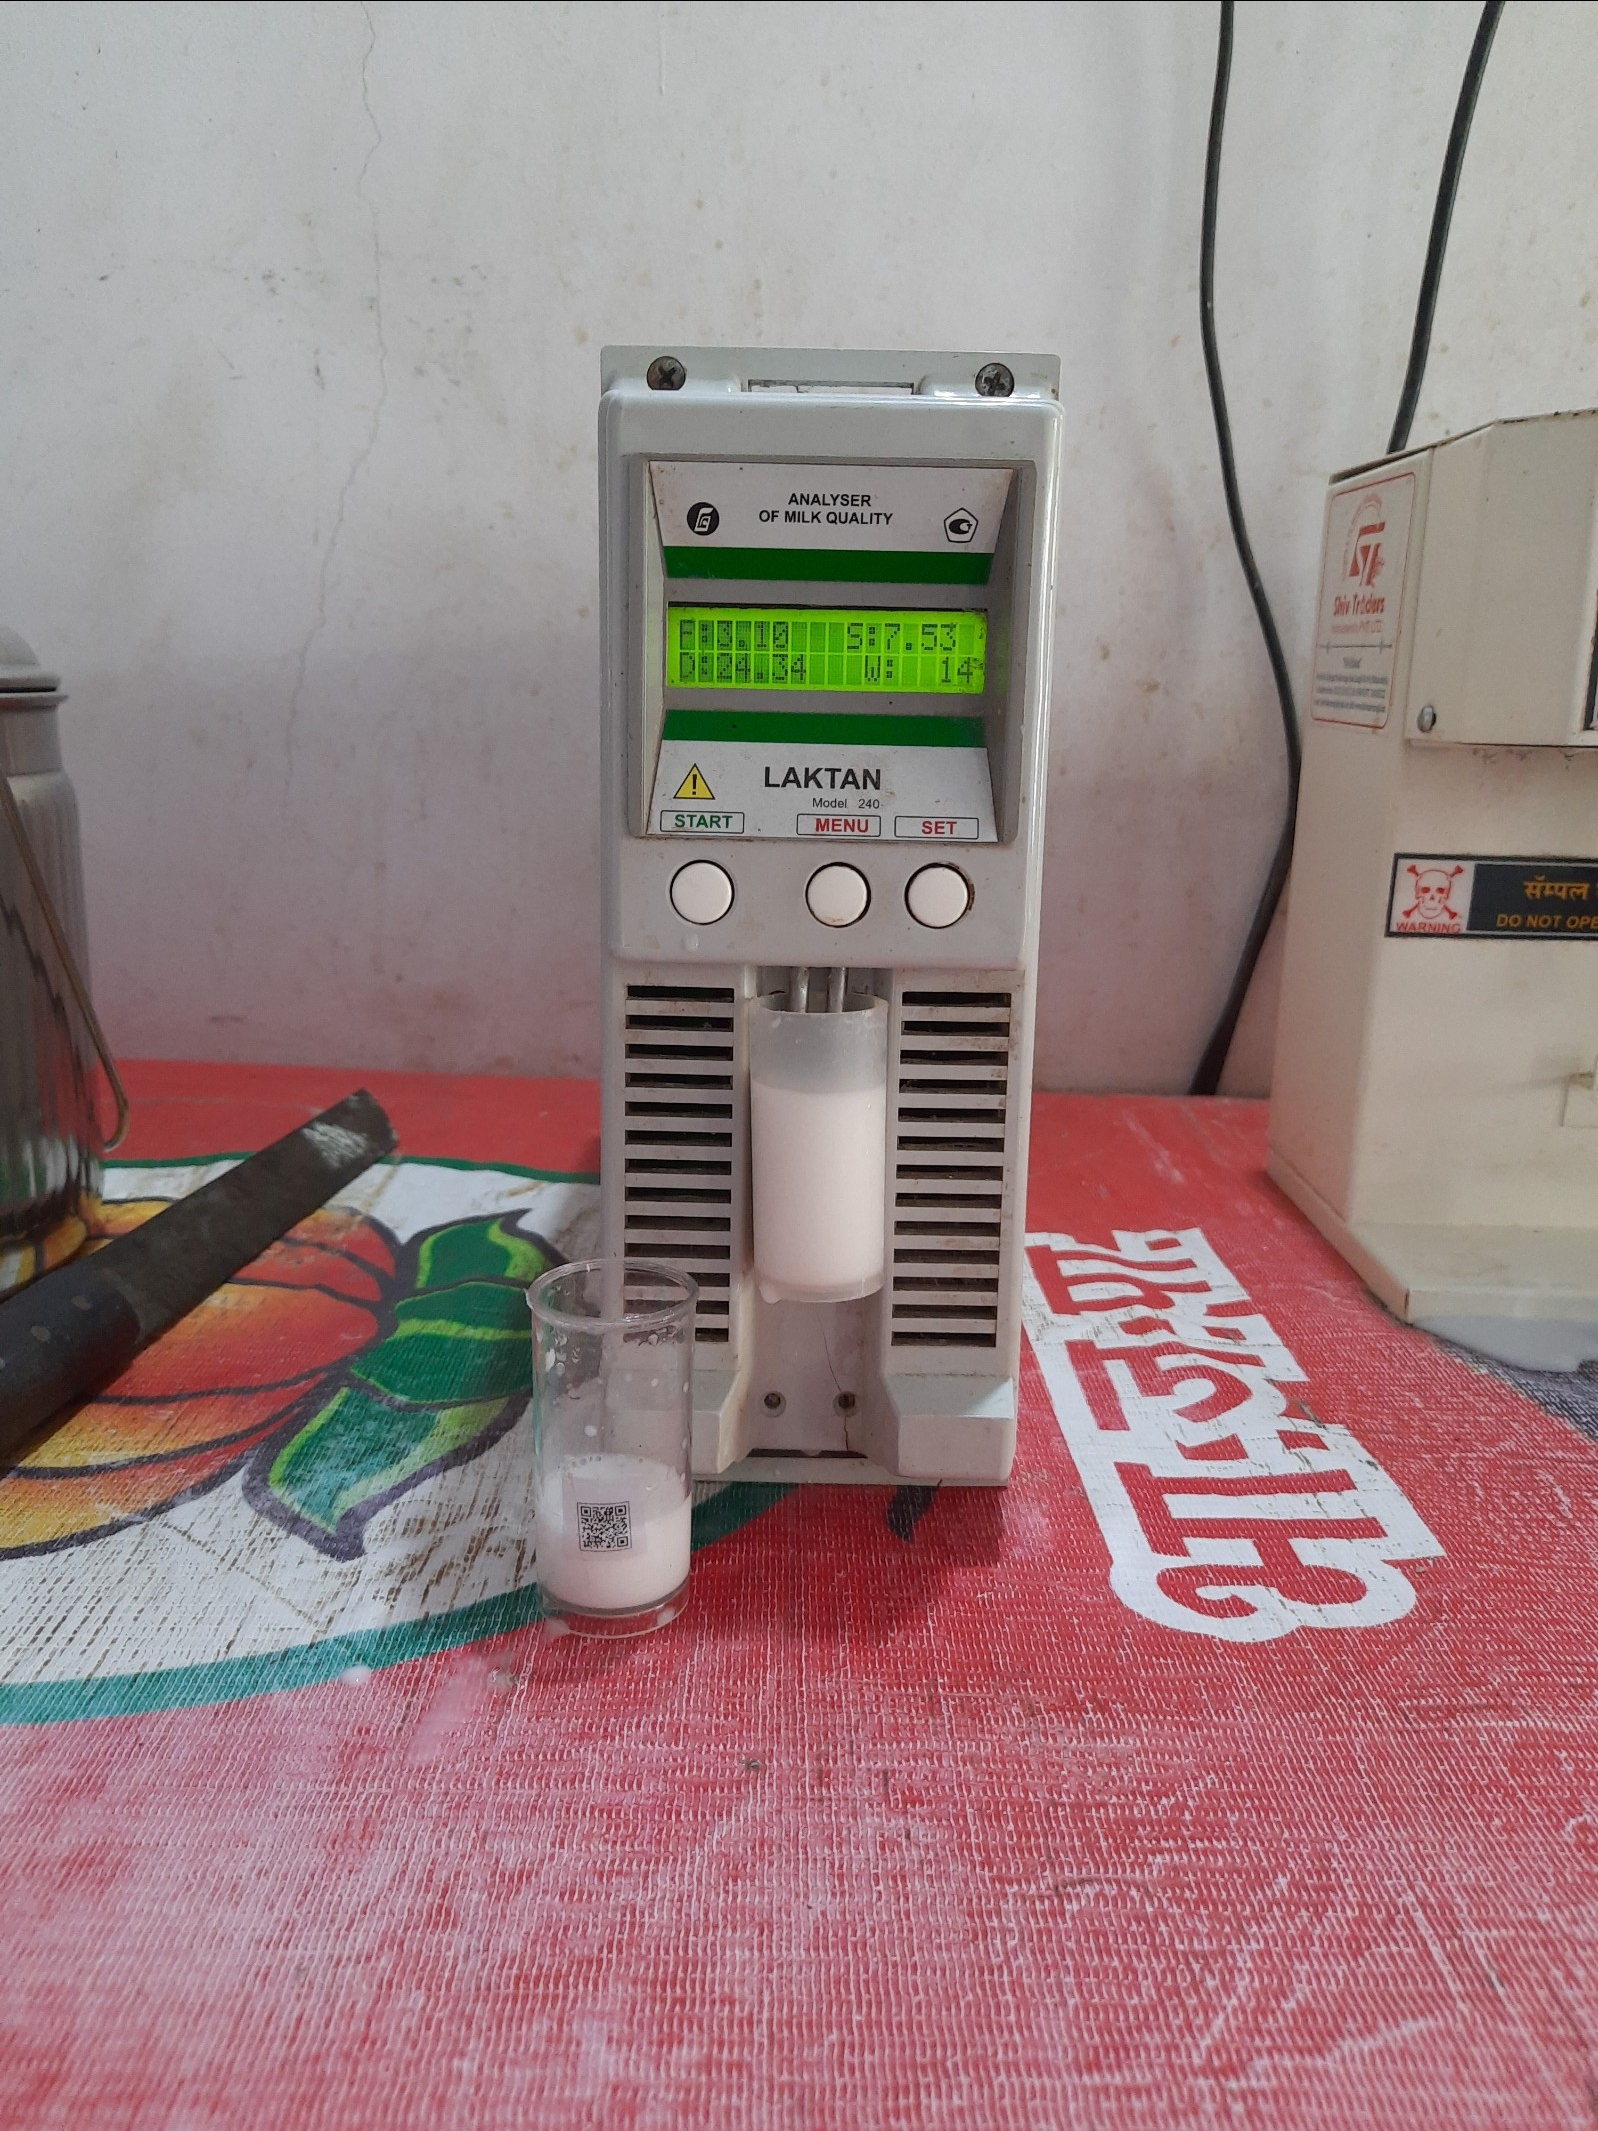lcd: (665, 602, 994, 696)
qr: (567, 1497, 633, 1552)
